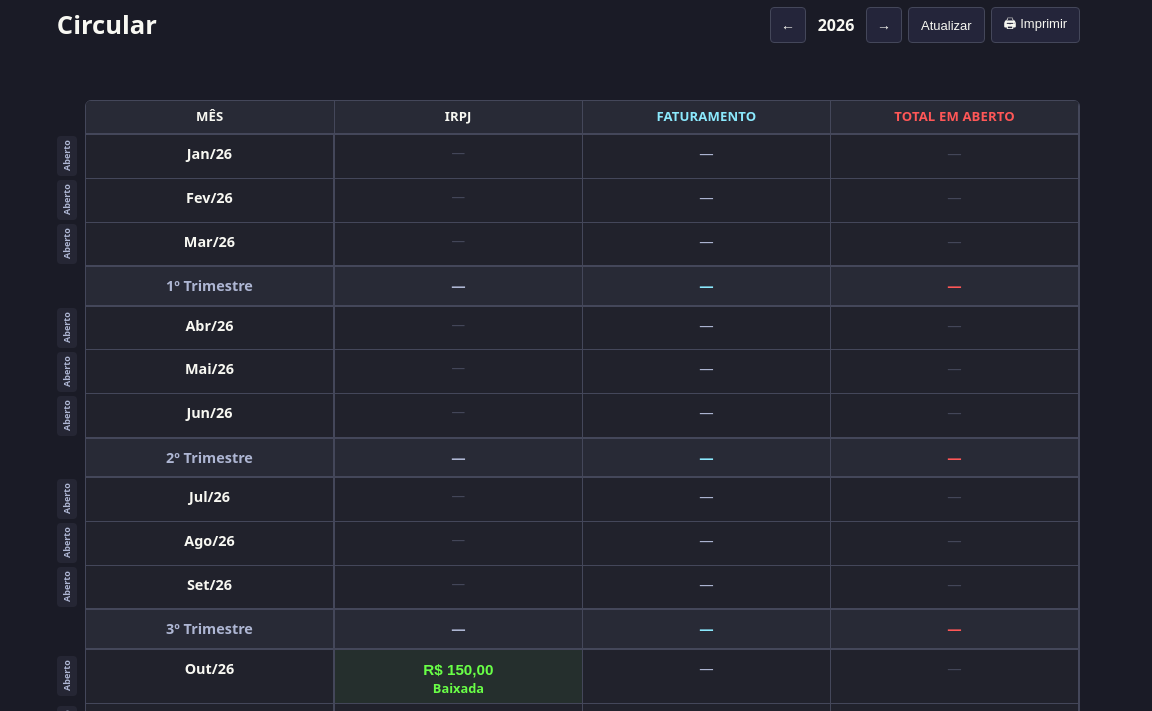
it: editar baixa de IRPJ abre o pagamento e preserva a edição separada da provisão
Step 1. Click the button "R$ 150,00" → {"x": 458, "y": 670}, box top-left (339, 658), bottom-right (578, 681)
(page scrolled)
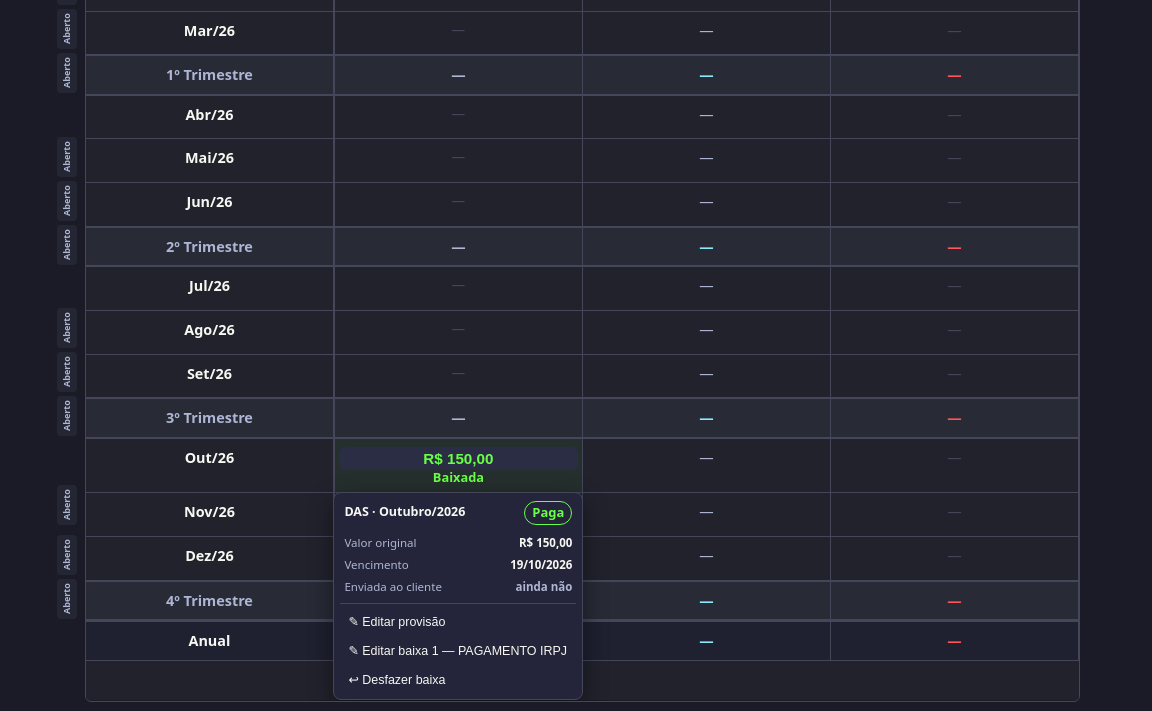
Expected: the button "✎ Editar provisão" is shown, top-left (340, 608), bottom-right (576, 635)
Step 2. Click the button "✎ Editar baixa 1 — PAGAMENTO IRPJ" → {"x": 458, "y": 651}, box top-left (340, 637), bottom-right (576, 664)
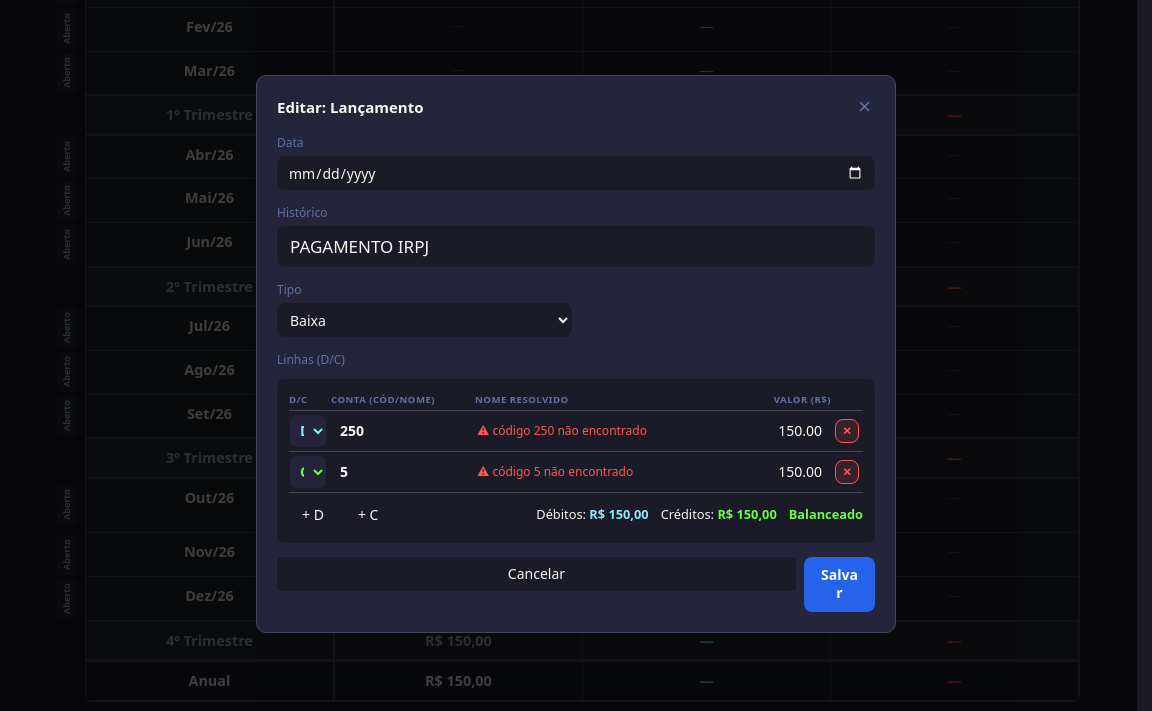
Expected: the dropdown labelled "Tipo" shows "Baixa", top-left (277, 303), bottom-right (572, 337)
